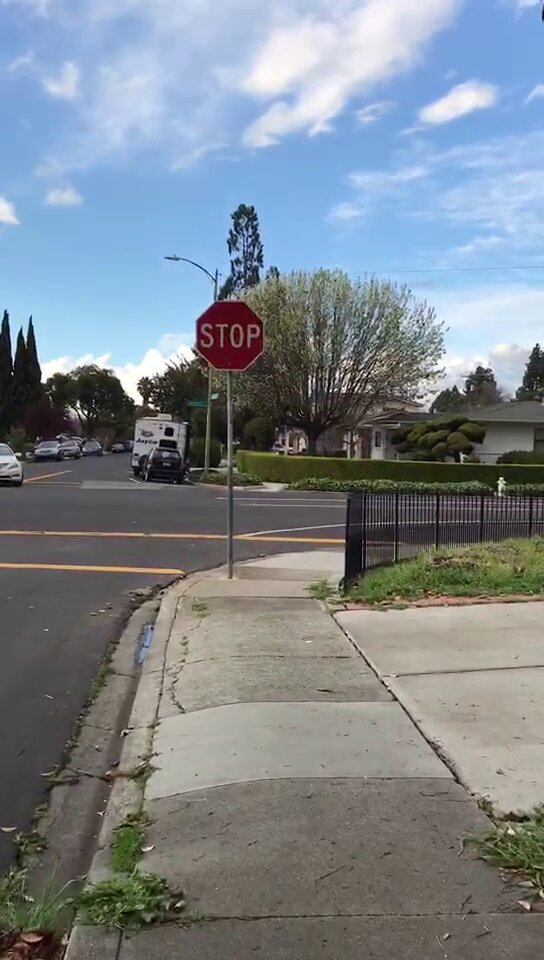stop_sign: (197, 301, 261, 373)
